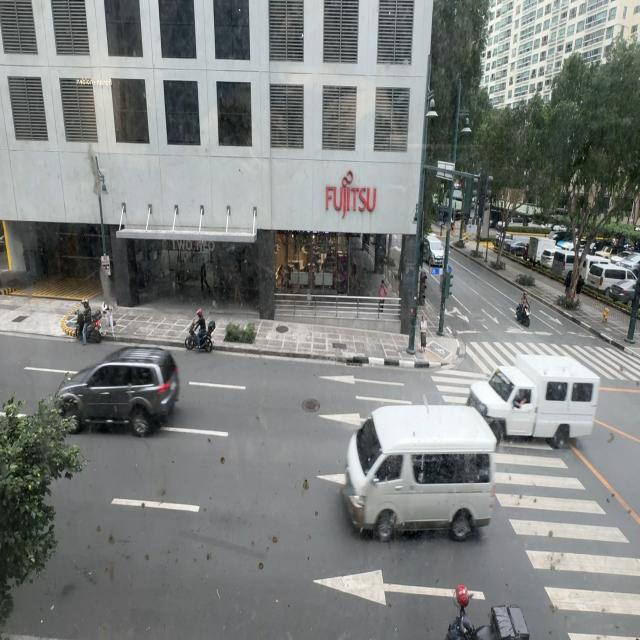pedestrain: (378, 280, 388, 317), (234, 268, 242, 304)
waiting: (422, 317, 430, 355)
